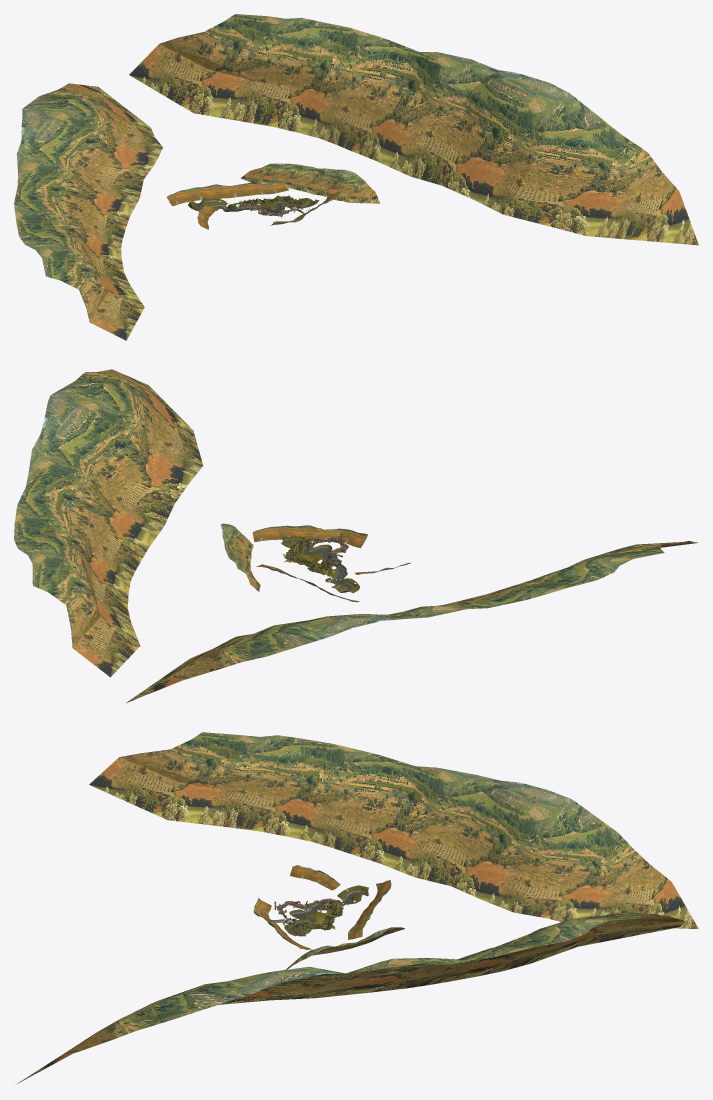
Rendered from map_compressed.glb.
3 views of the same model, one above another, from view 1: azimuth 30°, elevation 25°; view 2: azimuth 150°, elevation 25°; view 3: azimuth 270°, elevation 25° (orthographic). The views are drawn at different scales.
Visible parts, largest first — view 1: backdrop_grp_006_mdl_004_sub_000_material_102_0, backdrop_grp_006_mdl_002_sub_000_material_102_0, backdrop_grp_006_mdl_003_sub_000_material_102_0, backdrop_grp_006_mdl_001_sub_000_material_102_0, backdrop_grp_006_mdl_008_sub_000_material_102_0, backdrop_grp_006_mdl_005_sub_000_material_102_0, backdrop_grp_006_mdl_007_sub_000_material_102_0, backdrop_grp_006_mdl_000_sub_000_material_102_0, backdrop_grp_006_mdl_011_sub_000_material_102_0, backdrop_grp_006_mdl_010_sub_000_material_102_0, backdrop_grp_006_mdl_009_sub_000_material_102_0, backdrop_grp_006_mdl_006_sub_000_material_102_0 (+5 smaller); view 2: backdrop_grp_006_mdl_002_sub_000_material_102_0, backdrop_grp_006_mdl_003_sub_000_material_102_0, backdrop_grp_006_mdl_004_sub_000_material_102_0, backdrop_grp_006_mdl_005_sub_000_material_102_0, backdrop_grp_006_mdl_001_sub_000_material_102_0, backdrop_grp_006_mdl_007_sub_000_material_102_0, backdrop_grp_006_mdl_011_sub_000_material_102_0, backdrop_grp_006_mdl_010_sub_000_material_102_0, backdrop_grp_006_mdl_008_sub_000_material_102_0, backdrop_grp_006_mdl_006_sub_000_material_102_0; view 3: backdrop_grp_006_mdl_007_sub_000_material_102_0, backdrop_grp_006_mdl_008_sub_000_material_102_0, backdrop_grp_006_mdl_011_sub_000_material_102_0, backdrop_grp_006_mdl_010_sub_000_material_102_0, backdrop_grp_006_mdl_006_sub_000_material_102_0, backdrop_grp_006_mdl_004_sub_000_material_102_0, backdrop_grp_006_mdl_003_sub_000_material_102_0, backdrop_grp_006_mdl_001_sub_000_material_102_0, backdrop_grp_006_mdl_009_sub_000_material_102_0, backdrop_grp_006_mdl_002_sub_000_material_102_0, backdrop_grp_006_mdl_005_sub_000_material_102_0, backdrop_grp_006_mdl_000_sub_000_material_102_0.
Part boxes in pixels (left/top/right/bottom): backdrop_grp_006_mdl_004_sub_000_material_102_0: left=208, top=16, right=394, bottom=137; backdrop_grp_006_mdl_002_sub_000_material_102_0: left=410, top=70, right=569, bottom=214; backdrop_grp_006_mdl_003_sub_000_material_102_0: left=318, top=39, right=497, bottom=176; backdrop_grp_006_mdl_001_sub_000_material_102_0: left=503, top=93, right=660, bottom=235; backdrop_grp_006_mdl_008_sub_000_material_102_0: left=16, top=109, right=143, bottom=230; backdrop_grp_006_mdl_005_sub_000_material_102_0: left=129, top=14, right=266, bottom=121; backdrop_grp_006_mdl_007_sub_000_material_102_0: left=22, top=89, right=162, bottom=178; backdrop_grp_006_mdl_000_sub_000_material_102_0: left=587, top=168, right=698, bottom=245; backdrop_grp_006_mdl_011_sub_000_material_102_0: left=16, top=213, right=144, bottom=321; backdrop_grp_006_mdl_010_sub_000_material_102_0: left=14, top=165, right=125, bottom=271; backdrop_grp_006_mdl_009_sub_000_material_102_0: left=90, top=292, right=144, bottom=340; backdrop_grp_006_mdl_006_sub_000_material_102_0: left=59, top=83, right=150, bottom=127; backdrop_grp_006_mdl_002_sub_000_material_102_0: left=40, top=395, right=202, bottom=525; backdrop_grp_006_mdl_003_sub_000_material_102_0: left=17, top=434, right=163, bottom=581; backdrop_grp_006_mdl_004_sub_000_material_102_0: left=14, top=500, right=130, bottom=621; backdrop_grp_006_mdl_005_sub_000_material_102_0: left=32, top=563, right=140, bottom=677; backdrop_grp_006_mdl_001_sub_000_material_102_0: left=51, top=372, right=202, bottom=464; backdrop_grp_006_mdl_007_sub_000_material_102_0: left=194, top=614, right=381, bottom=669; backdrop_grp_006_mdl_011_sub_000_material_102_0: left=526, top=542, right=697, bottom=588; backdrop_grp_006_mdl_010_sub_000_material_102_0: left=436, top=568, right=567, bottom=609; backdrop_grp_006_mdl_008_sub_000_material_102_0: left=318, top=602, right=473, bottom=627; backdrop_grp_006_mdl_006_sub_000_material_102_0: left=126, top=644, right=229, bottom=702; backdrop_grp_006_mdl_007_sub_000_material_102_0: left=451, top=782, right=647, bottom=921; backdrop_grp_006_mdl_008_sub_000_material_102_0: left=351, top=767, right=558, bottom=886; backdrop_grp_006_mdl_011_sub_000_material_102_0: left=119, top=732, right=346, bottom=830; backdrop_grp_006_mdl_010_sub_000_material_102_0: left=258, top=744, right=444, bottom=853; backdrop_grp_006_mdl_006_sub_000_material_102_0: left=571, top=863, right=698, bottom=928; backdrop_grp_006_mdl_004_sub_000_material_102_0: left=452, top=915, right=608, bottom=980; backdrop_grp_006_mdl_003_sub_000_material_102_0: left=317, top=958, right=489, bottom=997; backdrop_grp_006_mdl_001_sub_000_material_102_0: left=109, top=981, right=255, bottom=1040; backdrop_grp_006_mdl_009_sub_000_material_102_0: left=89, top=757, right=179, bottom=819; backdrop_grp_006_mdl_002_sub_000_material_102_0: left=218, top=966, right=365, bottom=1004; backdrop_grp_006_mdl_005_sub_000_material_102_0: left=531, top=912, right=685, bottom=963; backdrop_grp_006_mdl_000_sub_000_material_102_0: left=16, top=1019, right=119, bottom=1084.
Size of the model in its own units: 206 by 27.61 by 193.
100 materials, 99 textured.
